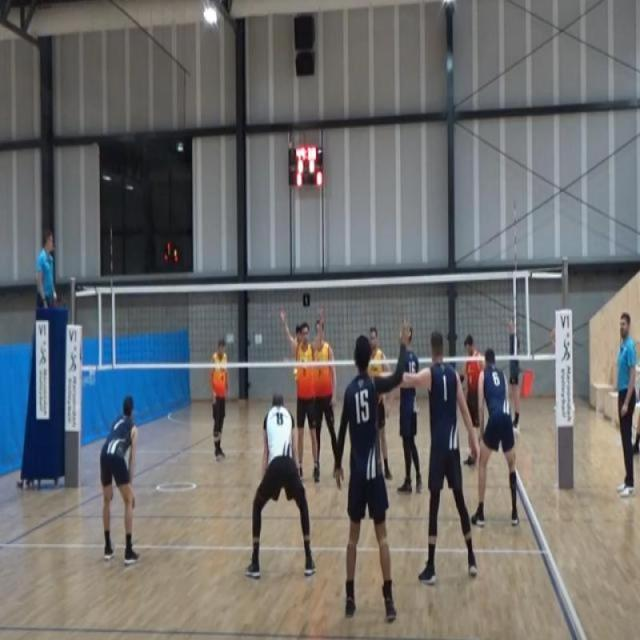volleyball: (292, 367, 298, 382)
